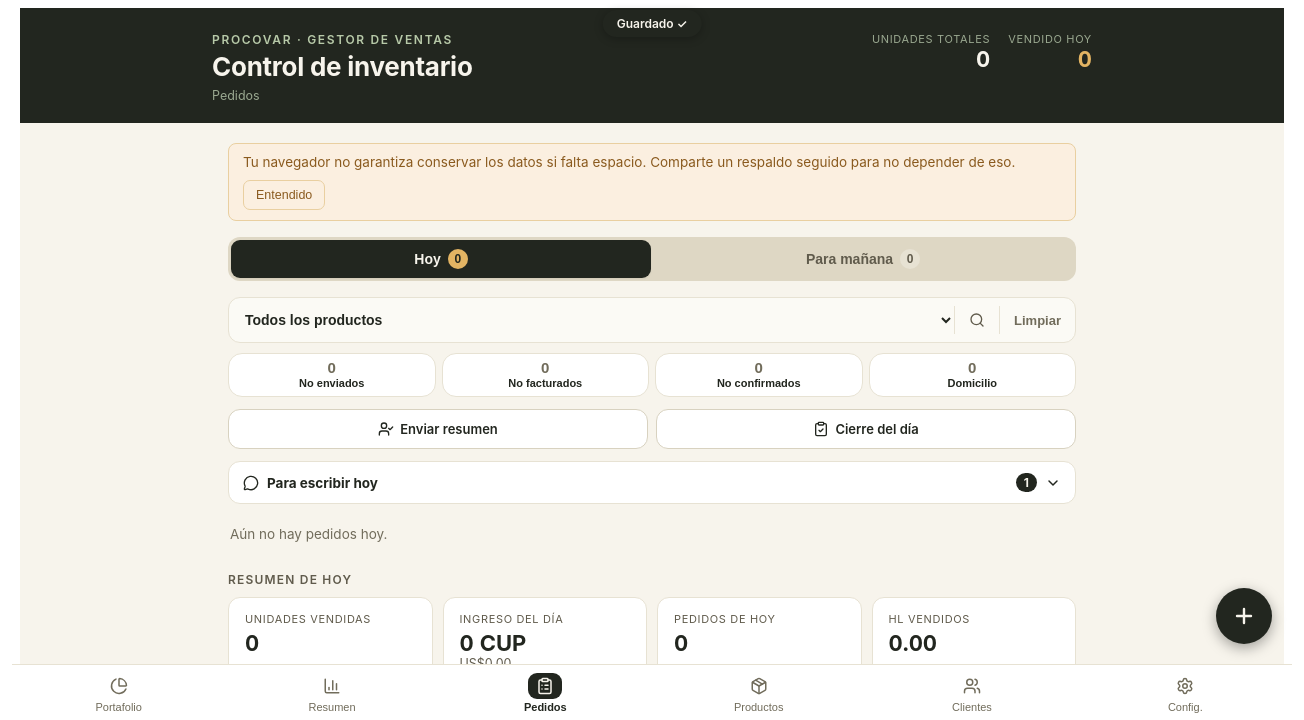
Para escribir hoy (tarjeta en Pedidos > Hoy) › no aparece en Para mañana
Step 1. Click the button "Para mañana 0" → coordinates (863, 259), box [653,240,1073,278]
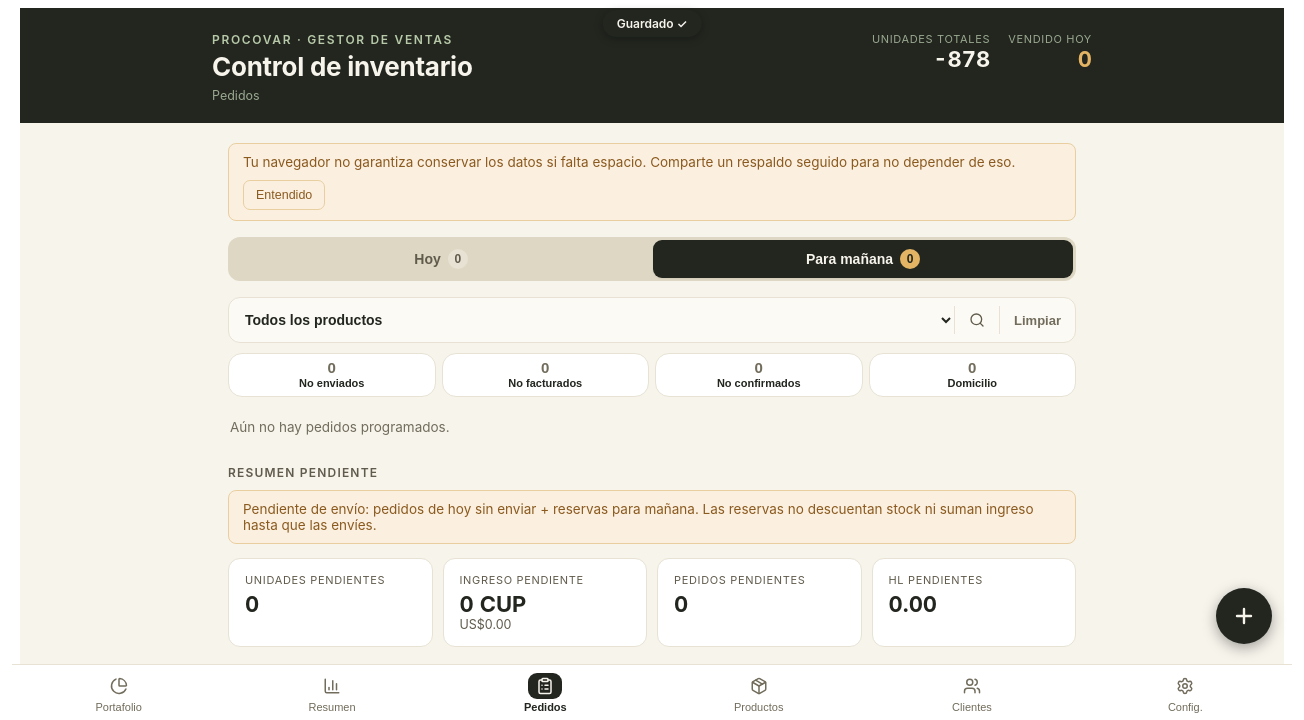
Expected: the button "Para escribir hoy" is gone
